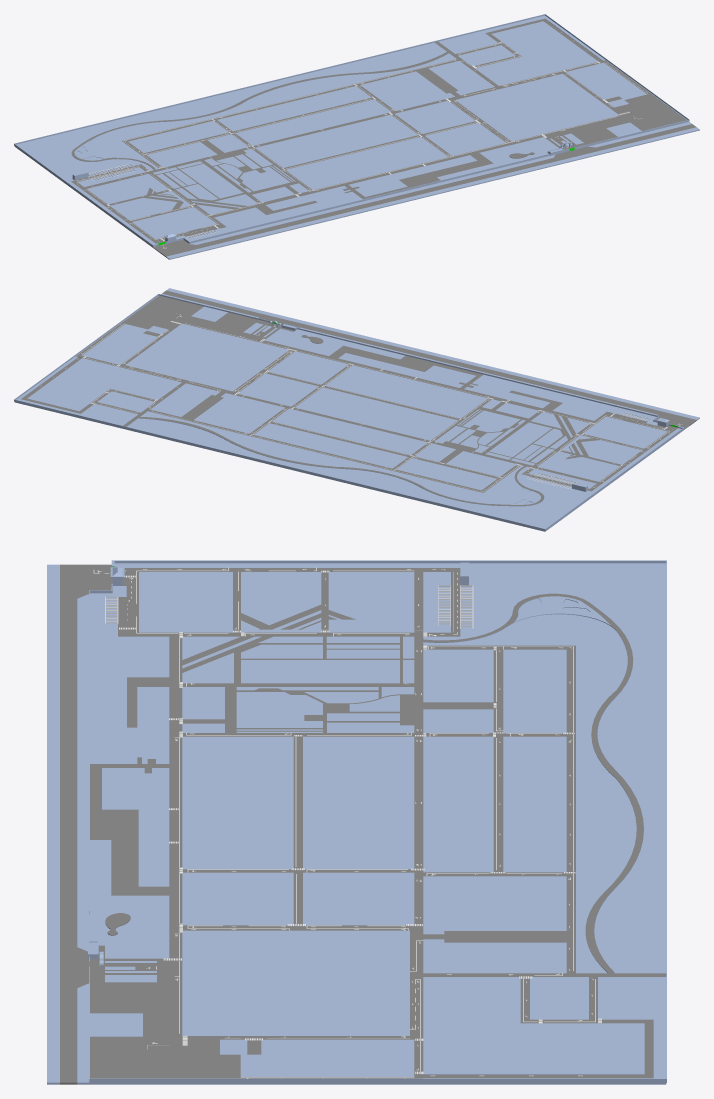
The model's file is VIL.glb.
3 views of the same model, one above another, from view 1: azimuth 30°, elevation 25°; view 2: azimuth 150°, elevation 25°; view 3: azimuth 270°, elevation 25° (orthographic). The views are drawn at different scales.
Visible parts, largest first — view 1: Floor1; view 2: Floor1; view 3: Floor1.
Part boxes in pixels (x1=…): Floor1: x1=14, y1=14, x2=699, y2=259; Floor1: x1=14, y1=288, x2=699, y2=531; Floor1: x1=47, y1=560, x2=666, y2=1084.
Size of the model in its own units: 574 by 8.1 by 290.
